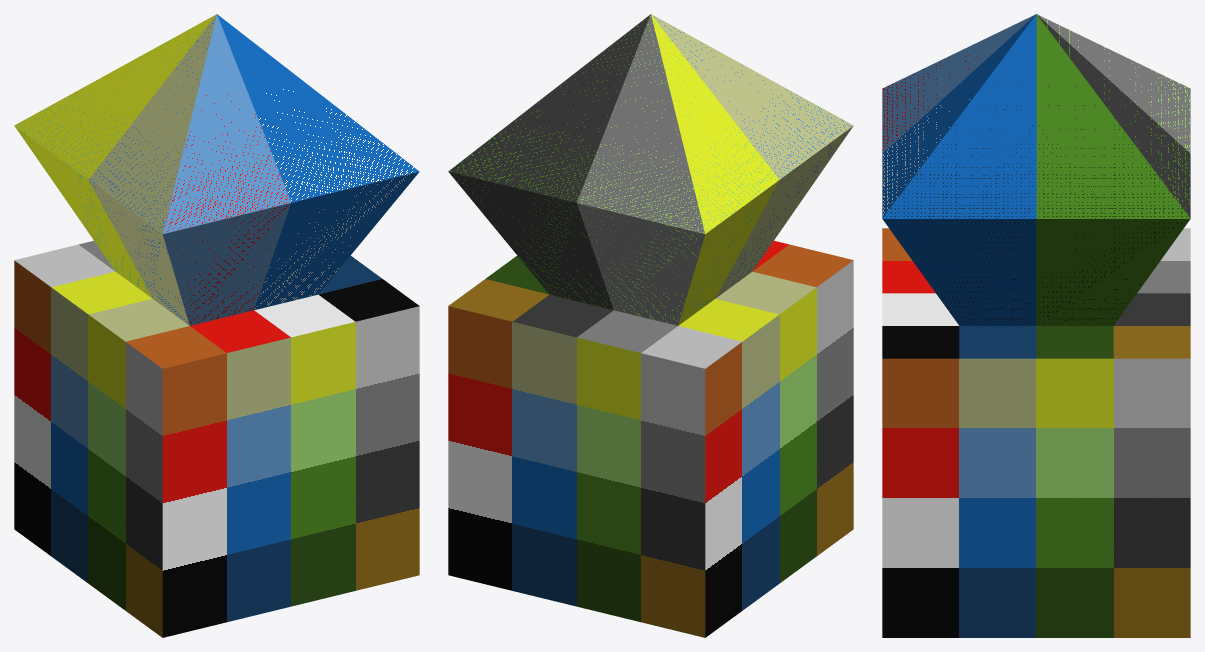
Rendered from arrow.fbx.
3 views of the same model, side by side, from view 1: azimuth 30°, elevation 25°; view 2: azimuth 150°, elevation 25°; view 3: azimuth 270°, elevation 25° (orthographic). The views are drawn at different scales.
Parts seen in each view (by area): view 1: ArrowUp; view 2: ArrowUp; view 3: ArrowUp.
Part boxes in pixels (x1,y1,x2,y2): ArrowUp: (14,14,419,637); ArrowUp: (448,14,853,637); ArrowUp: (882,14,1190,637).
Bounding box in the file's own units: 100 × 200 × 100.
